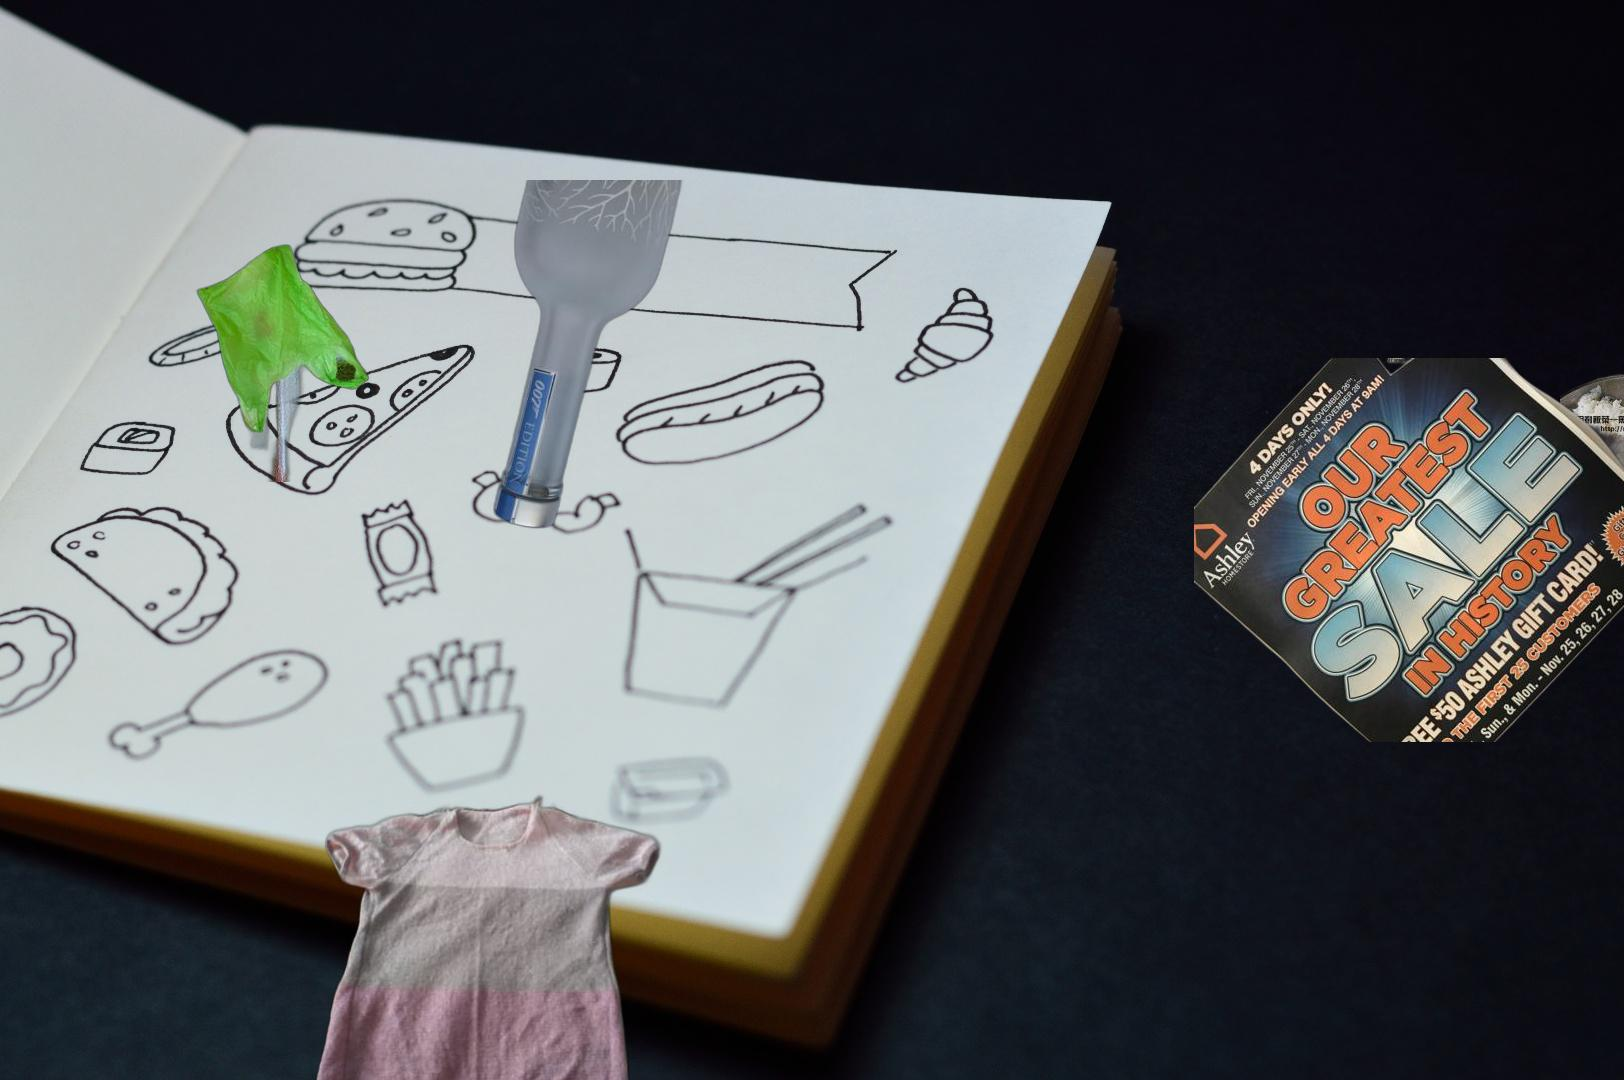biological: (1560, 371, 1624, 562)
clothes: (310, 792, 664, 1080)
glass: (489, 180, 686, 532)
paper: (1194, 358, 1624, 742)
plastic-bag: (194, 243, 371, 482)
plastic-bottles: (1388, 54, 1624, 549)
